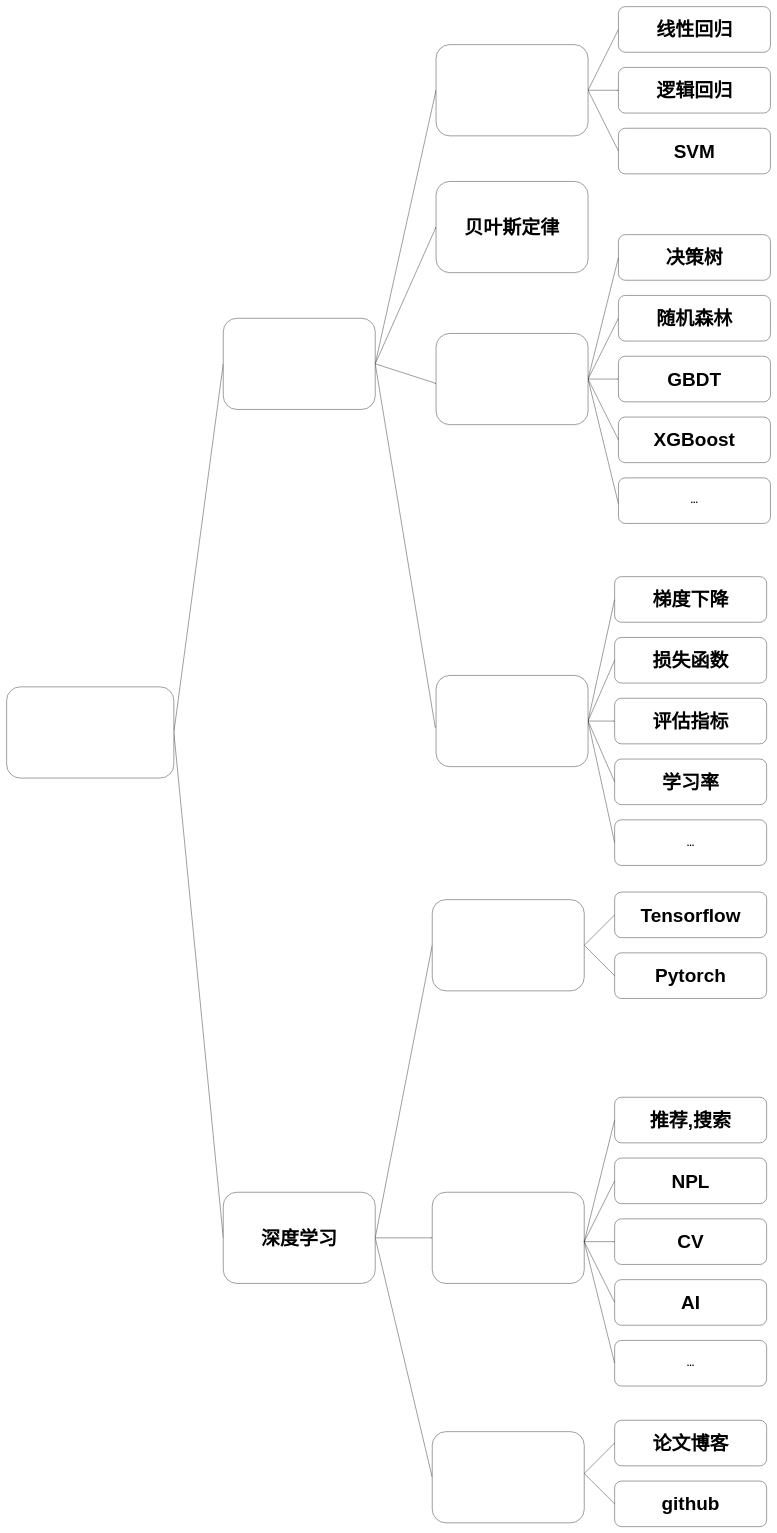
The diagram is 777 pixels wide and 1533 high, and some of its shapes have lost their labels. The centre of each missing label's shape, as x and y in pixels:
"基本概念" belongs at (x=512, y=721).
"方向*" belongs at (x=508, y=1237).
"机器学习" belongs at (x=299, y=363).
"树模型" belongs at (x=512, y=379).
"框架" belongs at (x=508, y=945).
"算法工程师" belongs at (x=90, y=732).
"线性模型" belongs at (x=512, y=90).
"论文" belongs at (x=508, y=1477).
